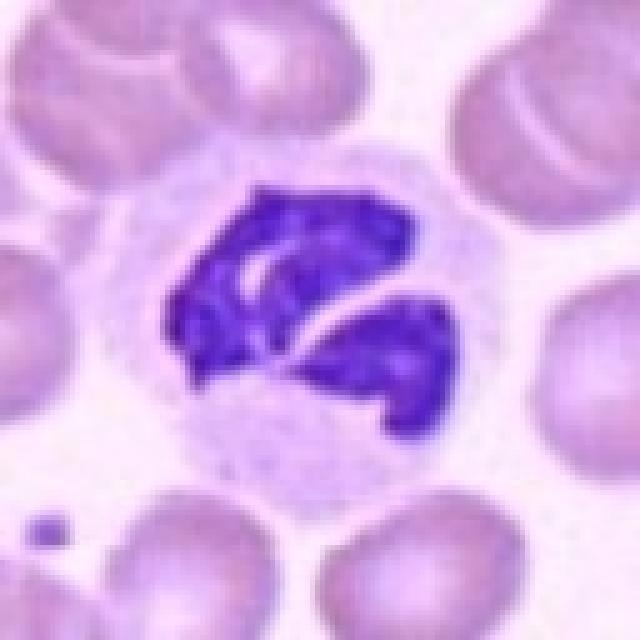neutro: (102, 77, 562, 515)
